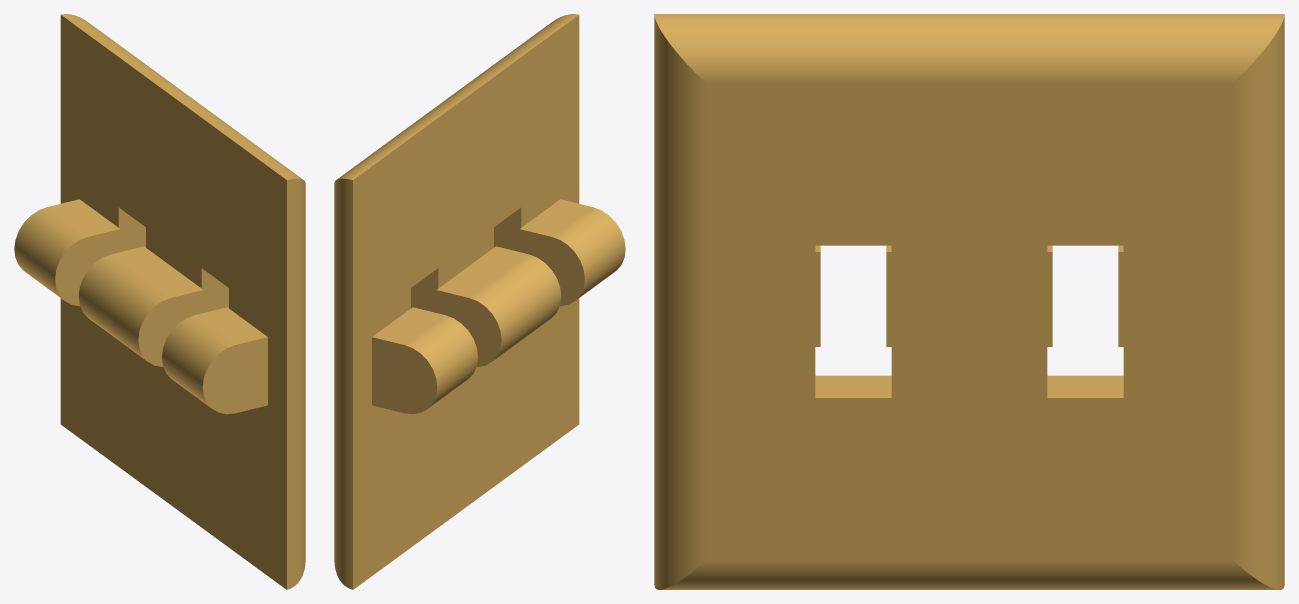
The model's file is switch_plate.glb.
The picture shows the model from 3 angles, left to right: view 1: azimuth 30°, elevation 25°; view 2: azimuth 150°, elevation 25°; view 3: azimuth 270°, elevation 25°; orthographic projection. The views are drawn at different scales.
Size of the model in its own units: 0.03 by 0.12 by 0.12.
